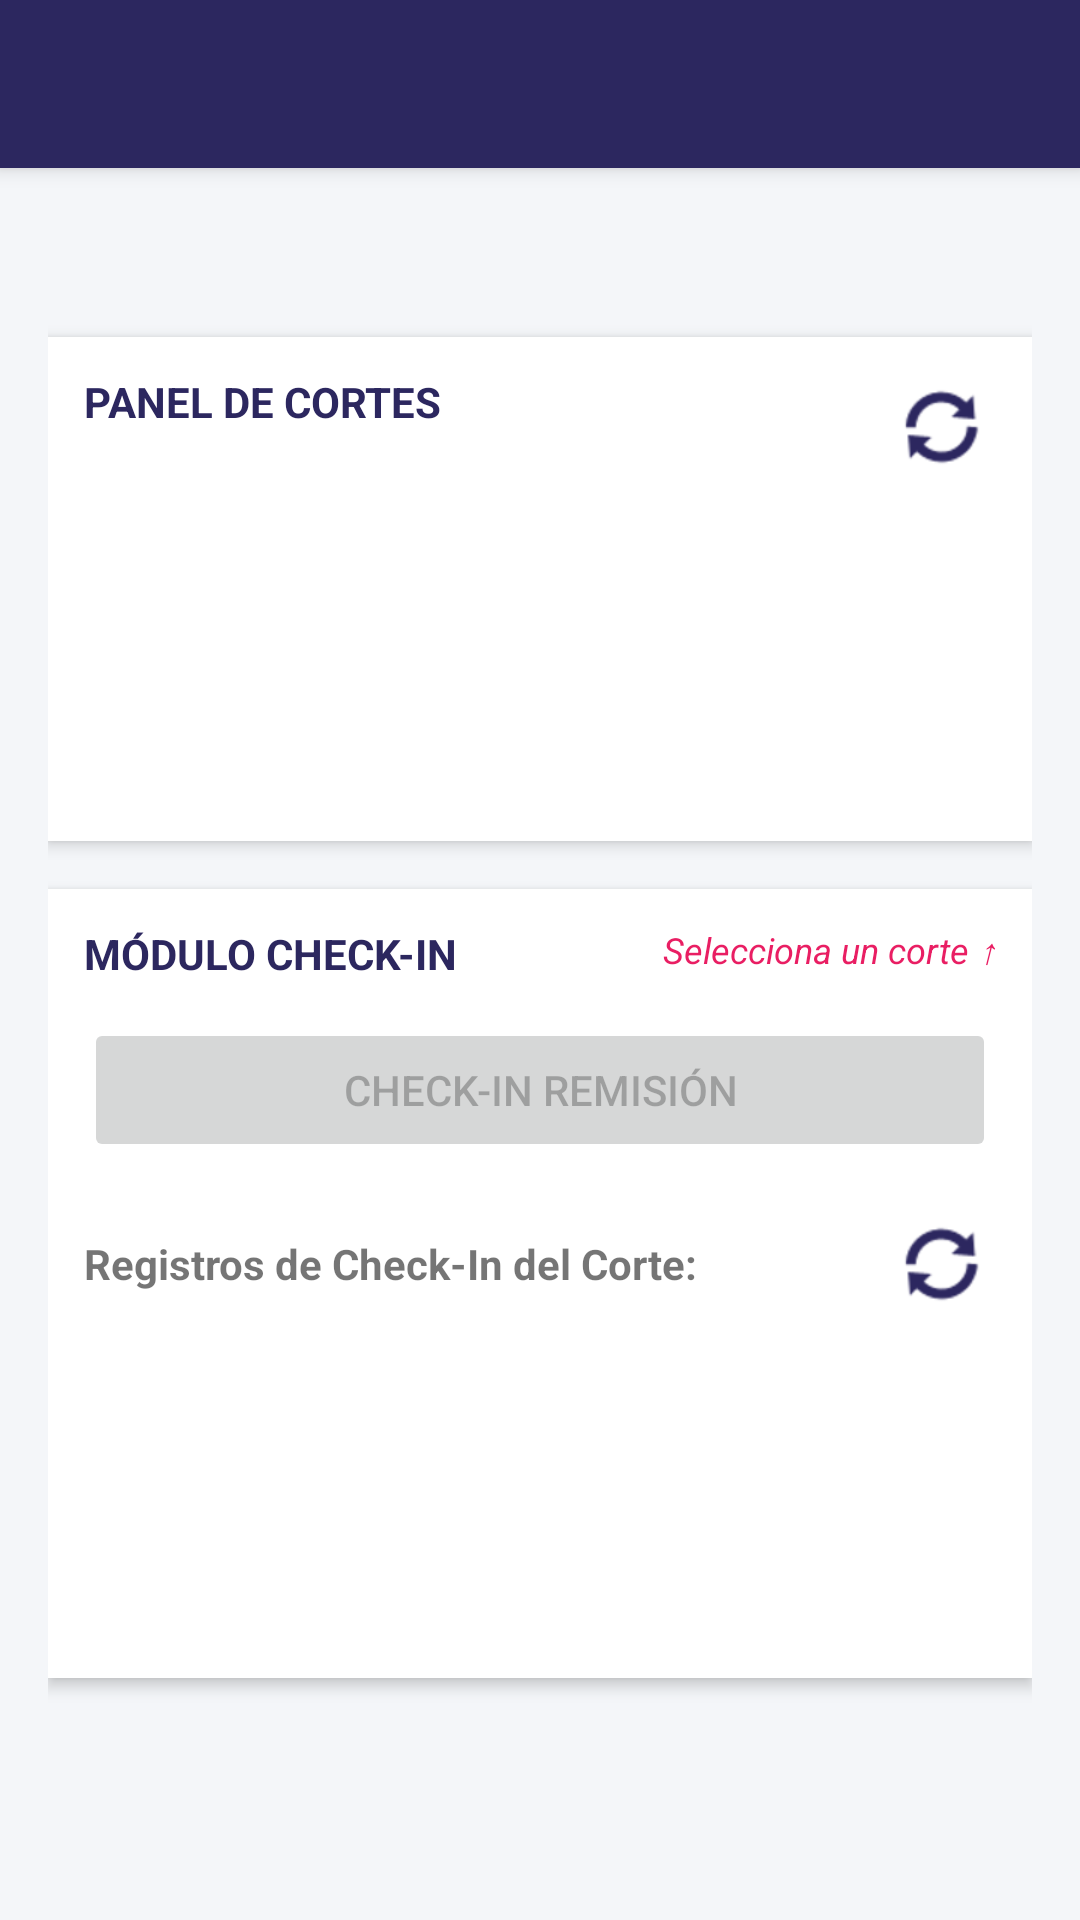

Screen size 1080 × 1920. Icon name, then its box in pixels as (x1, y1, x2, y2):
popup sync: (905, 391, 979, 463), (905, 1228, 979, 1300)
